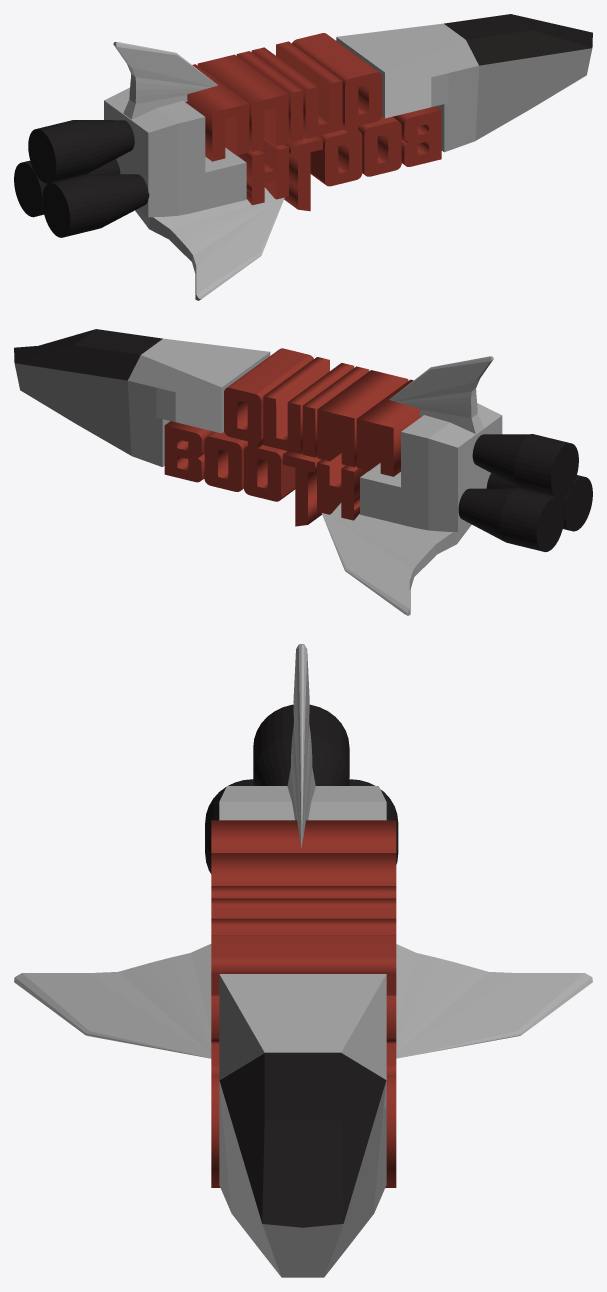
The model's file is spaceship1_flipped.glb.
3 views of the same model, one above another, from view 1: azimuth 30°, elevation 25°; view 2: azimuth 150°, elevation 25°; view 3: azimuth 270°, elevation 25° (orthographic). The views are drawn at different scales.
Parts seen in each view (by area): view 1: Text, Text.001, Cube.001, Cube, Cone.001, Cube.002, Cylinder.002, Cylinder, Cube.003, Cone, Cylinder.001; view 2: Text, Text.001, Cube.001, Cube, Cone.003, Cube.002, Cylinder.001, Cylinder, Cube.003, Cone, Cylinder.002; view 3: Text, Cube.003, Cube, Cone.001, Cone.003, Cube.002, Cylinder, Cube.001, Cone, Text.001.
Boxes of the visible parts, x1,y1,x2,y2 form: Text: (185,33,382,161); Text.001: (237,106,441,211); Cube.001: (104,88,246,217); Cube: (336,23,478,152); Cone.001: (135,187,284,300); Cube.002: (475,48,592,140); Cylinder.002: (42,174,149,237); Cylinder: (28,120,134,183); Cube.003: (444,14,592,65); Cone: (113,42,217,119); Cylinder.001: (14,159,120,217); Text: (224,348,421,476); Text.001: (164,421,368,526); Cube.001: (360,403,502,531); Cube: (127,338,270,466); Cone.003: (321,503,471,615); Cube.002: (14,363,131,455); Cylinder.001: (458,488,564,552); Cylinder: (472,434,578,497); Cube.003: (14,329,162,380); Cone: (389,356,493,433); Cylinder.002: (486,473,592,531); Text: (211,820,396,1042); Cube.003: (219,1052,386,1227); Cube: (219,974,386,1213); Cone.001: (14,944,211,1058); Cone.003: (396,944,592,1058); Cube.002: (219,1081,386,1277); Cylinder: (253,704,349,785); Cube.001: (219,786,386,820); Cone: (287,644,315,847); Text.001: (211,1042,396,1187).
Bounding box in the file's own units: 11.5 × 3.95 × 6.1.
